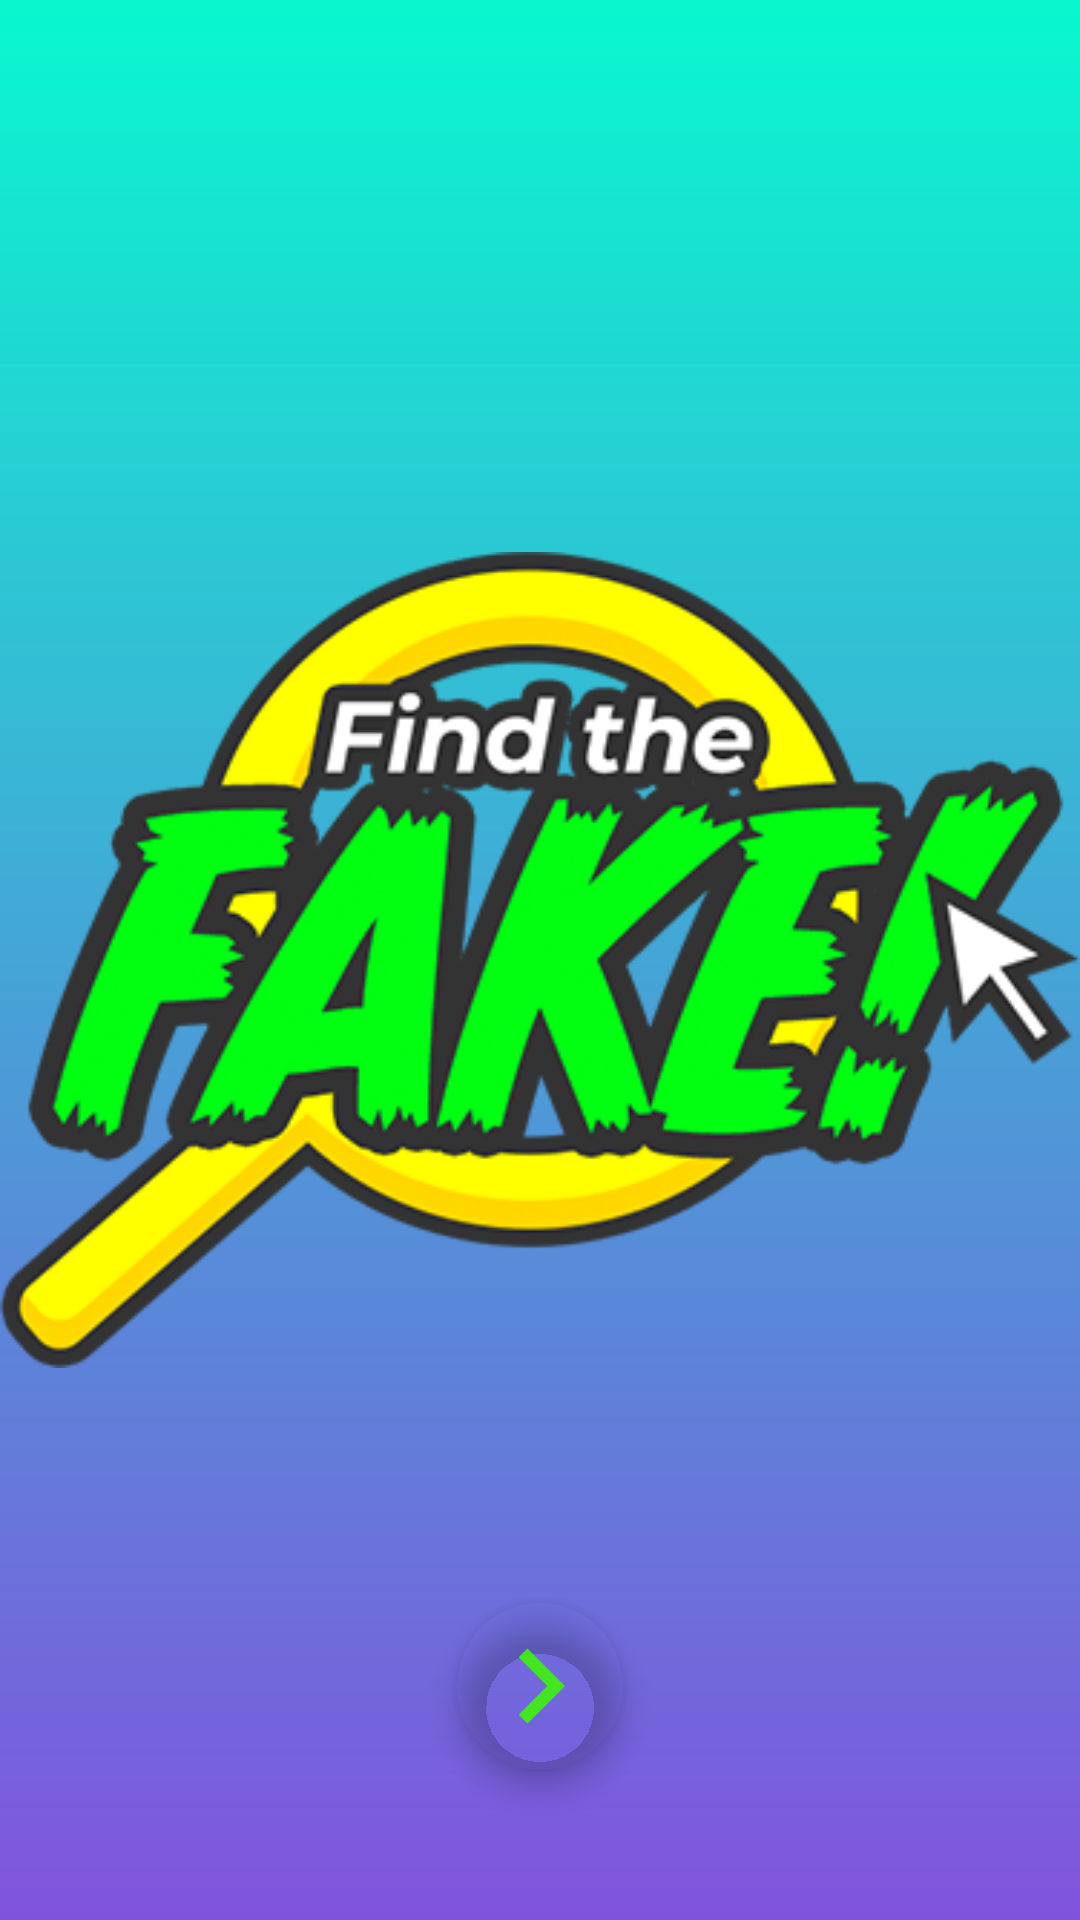

Locate icon controls on the screen. Image size 1080w x 1920h, boxes as (x1, y1, x2, y2).
right arrow: (456, 1602, 624, 1770)
